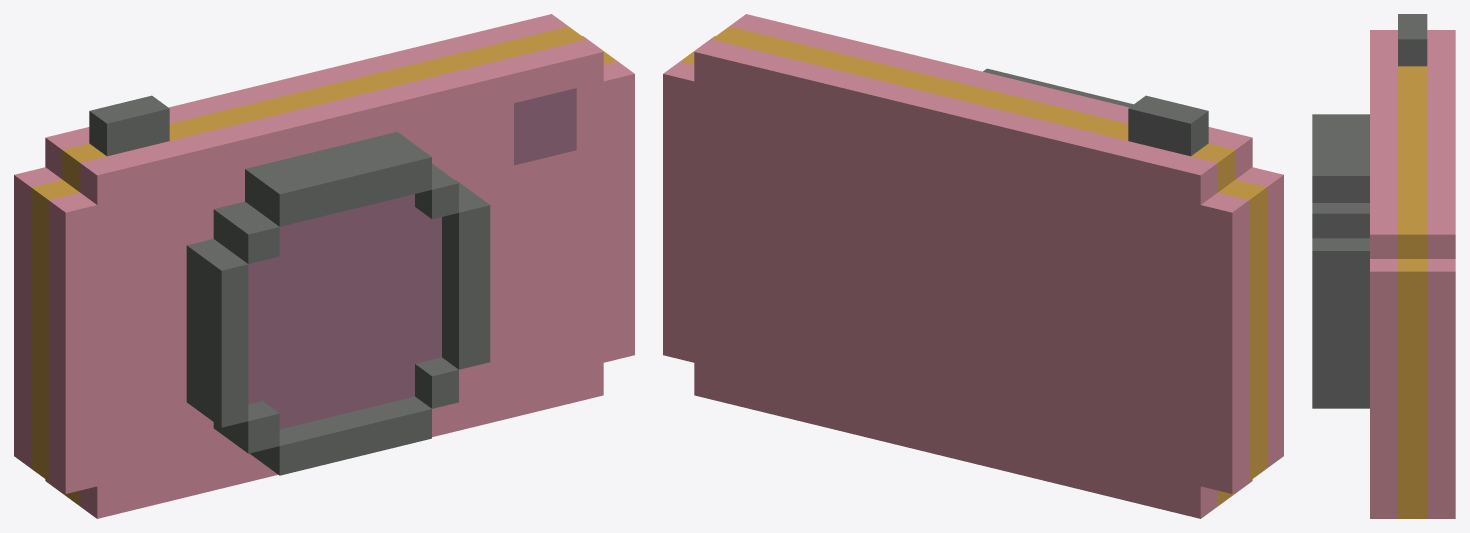
File: Camera.glb
3 renders of one model, left to right at view 1: azimuth 30°, elevation 25°; view 2: azimuth 150°, elevation 25°; view 3: azimuth 270°, elevation 25°, orthographic. The views are drawn at different scales.
Visible parts, largest first — view 1: unnamed; view 2: unnamed; view 3: unnamed.
Boxes of the visible parts, x1,y1,x2,y2 form: unnamed: [14, 14, 634, 518]; unnamed: [663, 14, 1283, 518]; unnamed: [1312, 14, 1455, 518].
Size of the model in its own units: 19 by 12 by 5.
1 material, 1 textured.
